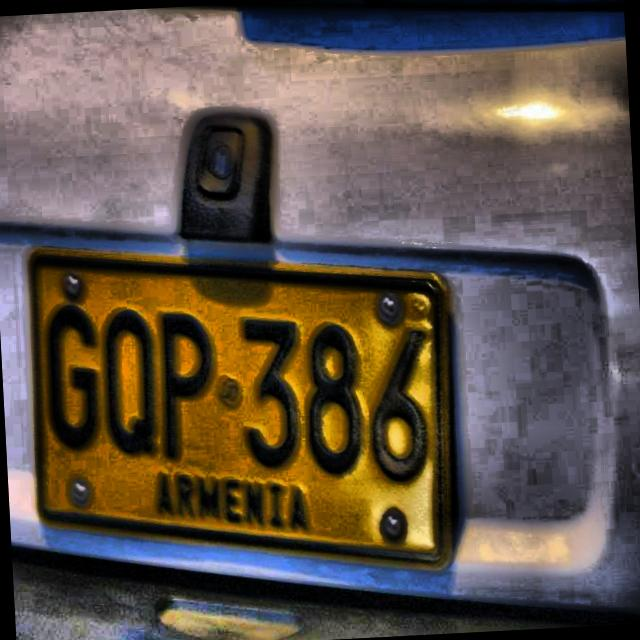plate: (35, 260, 442, 561)
